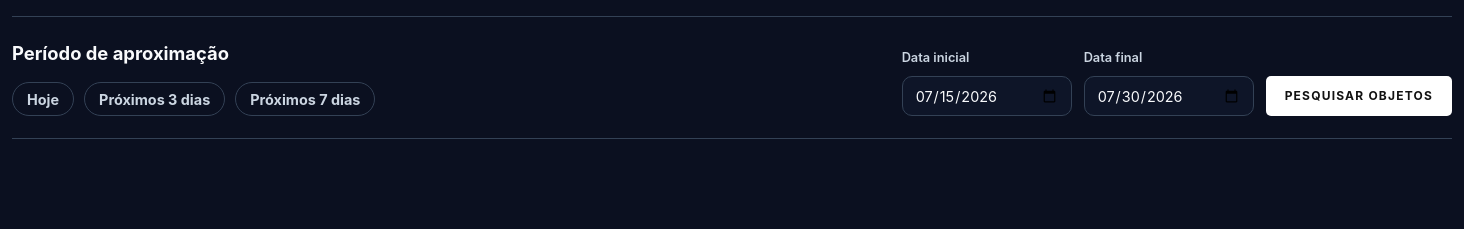
NeoDateRangeFilter › ajusta automaticamente um intervalo superior ao limite
This screenshot has width=1464, height=229.
Click the button "Pesquisar objetos".
click(1359, 96)  # box [1266,76,1452,116]
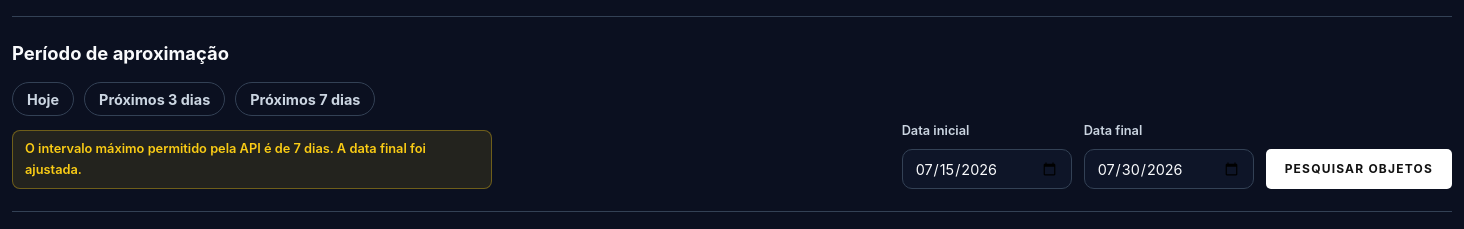
Expected: the message reads "O intervalo máximo permitido pela API é de 7 dias. A data final foi ajustada.", [25,141,426,177]
